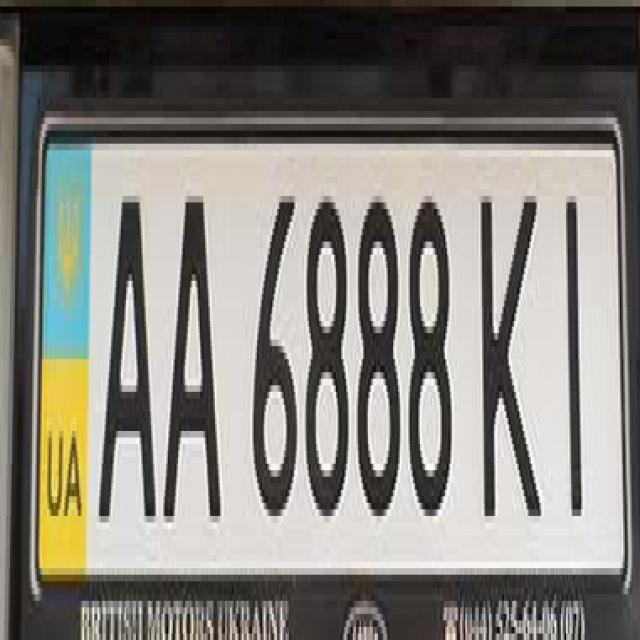Autre: (34, 109, 630, 640)
